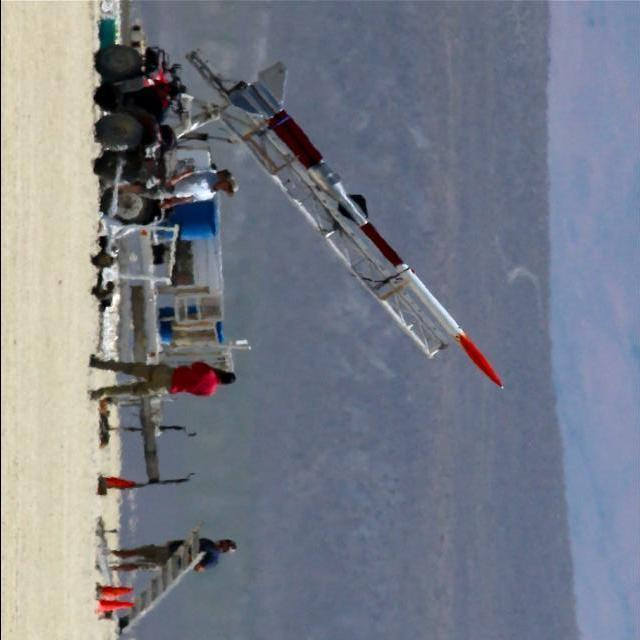missile: (227, 57, 503, 388)
